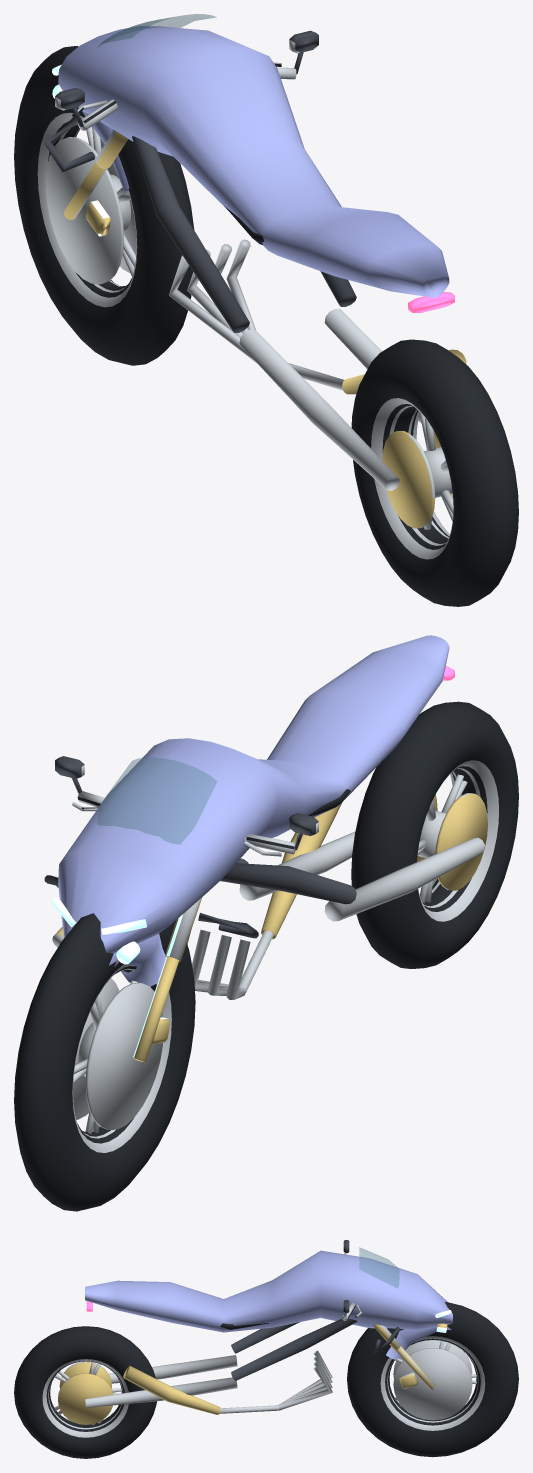
File: ghost.glb
3 renders of one model, top to bottom at view 1: azimuth 30°, elevation 25°; view 2: azimuth 150°, elevation 25°; view 3: azimuth 270°, elevation 25°, orthographic. The views are drawn at different scales.
Parts seen in each view (by area): view 1: chassis, rear-wheel, front-wheel, cockpit; view 2: chassis, front-wheel, rear-wheel, cockpit; view 3: chassis, front-wheel, rear-wheel, cockpit.
Part boxes in pixels (x1=…): chassis: x1=44, y1=26, x2=466, y2=490; rear-wheel: x1=351, y1=339, x2=518, y2=606; front-wheel: x1=14, y1=46, x2=194, y2=365; cockpit: x1=55, y1=14, x2=318, y2=130; chassis: x1=44, y1=635, x2=484, y2=1062; front-wheel: x1=14, y1=913, x2=195, y2=1211; rear-wheel: x1=351, y1=701, x2=518, y2=968; cockpit: x1=55, y1=756, x2=318, y2=856; chassis: x1=85, y1=1250, x2=452, y2=1414; front-wheel: x1=347, y1=1302, x2=518, y2=1456; rear-wheel: x1=14, y1=1326, x2=156, y2=1458; cockpit: x1=342, y1=1240, x2=399, y2=1320.
Bounding box in the file's own units: 0.98 × 1.4 × 3.13.
